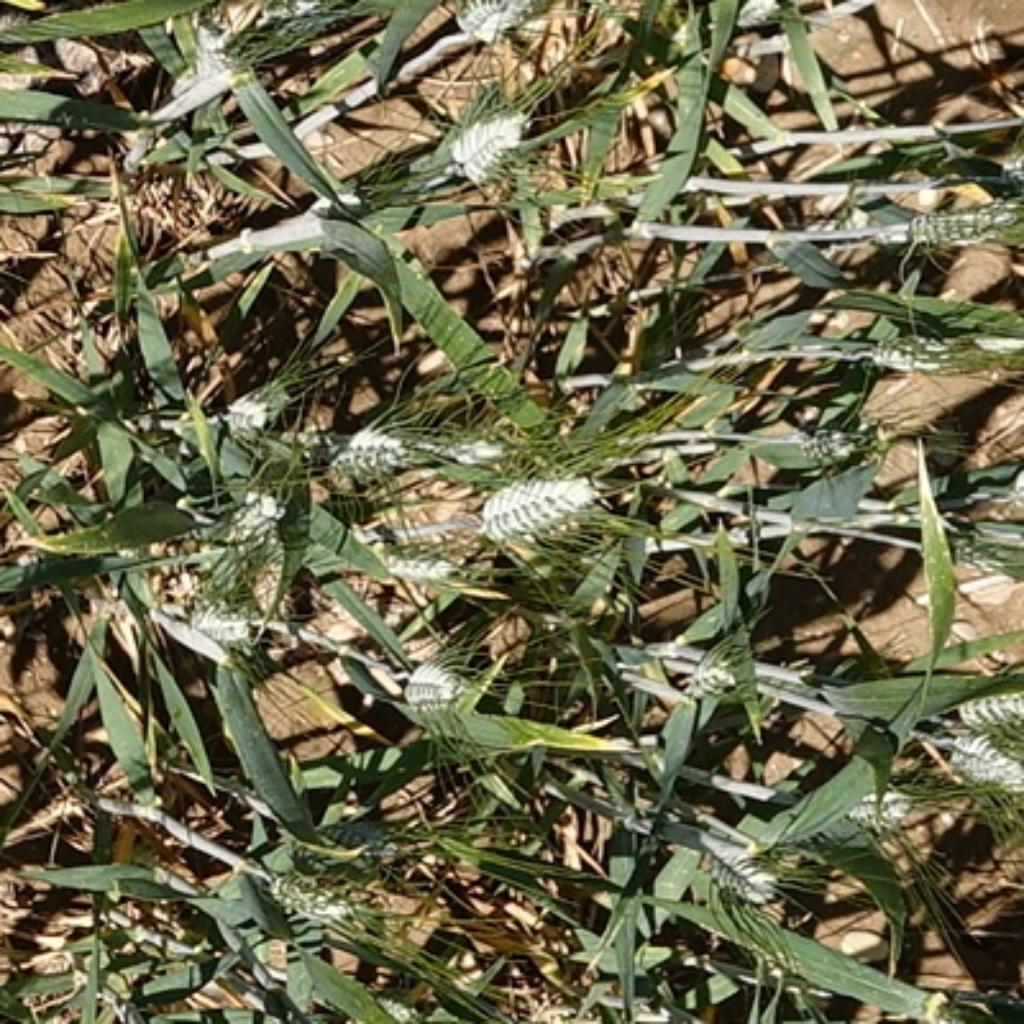0-0: (483, 478, 613, 558), (849, 322, 1024, 381), (286, 798, 414, 870), (430, 87, 532, 176), (421, 404, 542, 478), (391, 642, 481, 724), (261, 857, 371, 924), (886, 197, 1017, 253), (694, 843, 791, 918), (810, 770, 920, 836), (670, 627, 768, 701), (373, 542, 481, 604), (327, 412, 422, 481), (215, 360, 296, 435), (936, 727, 1021, 798), (212, 476, 291, 552), (166, 28, 270, 82), (174, 583, 258, 647), (788, 414, 875, 471), (448, 0, 565, 38), (947, 678, 1021, 734)
